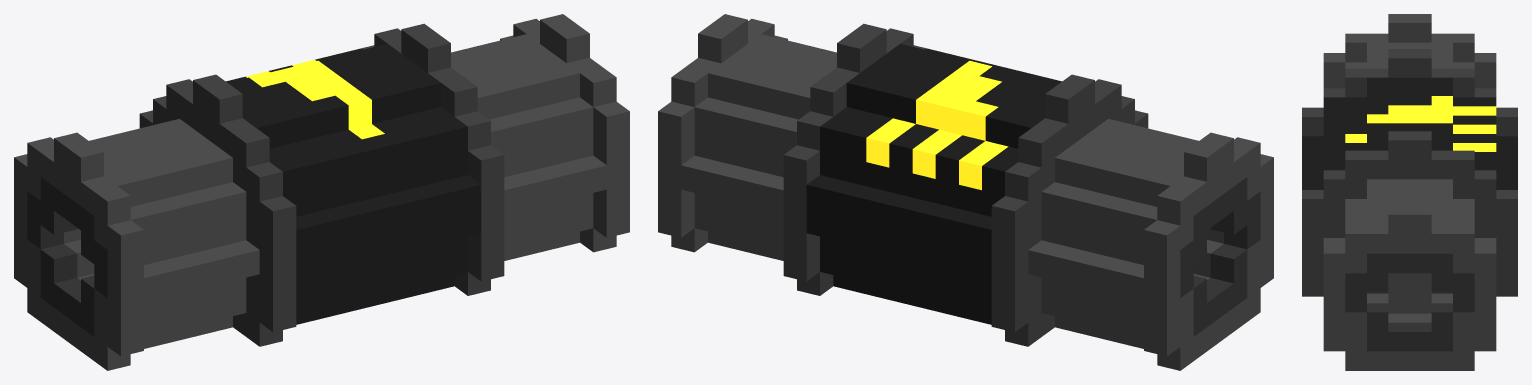
Rendered from item_EXOTIC_MANNAZ.glb.
The picture shows the model from 3 angles, left to right: view 1: azimuth 30°, elevation 25°; view 2: azimuth 150°, elevation 25°; view 3: azimuth 270°, elevation 25°; orthographic projection. The views are drawn at different scales.
Parts seen in each view (by area): view 1: item_EXOTIC_MANNAZ; view 2: item_EXOTIC_MANNAZ; view 3: item_EXOTIC_MANNAZ.
Part boxes in pixels (<box>): item_EXOTIC_MANNAZ: <box>14,14,629,370</box>; item_EXOTIC_MANNAZ: <box>658,14,1273,370</box>; item_EXOTIC_MANNAZ: <box>1302,14,1517,370</box>.
Bounding box in the file's own units: 0.5 × 0.2045 × 0.2273.
Materials: 1 (1 with a texture image).
